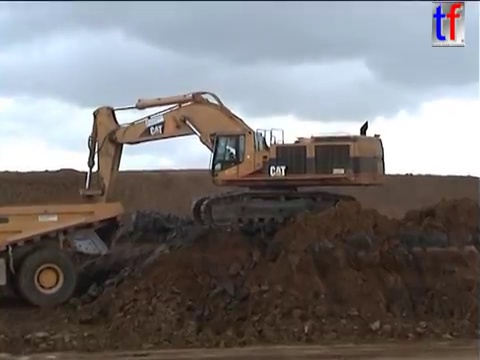excavator: (62, 89, 389, 257)
truck: (1, 199, 125, 308)
